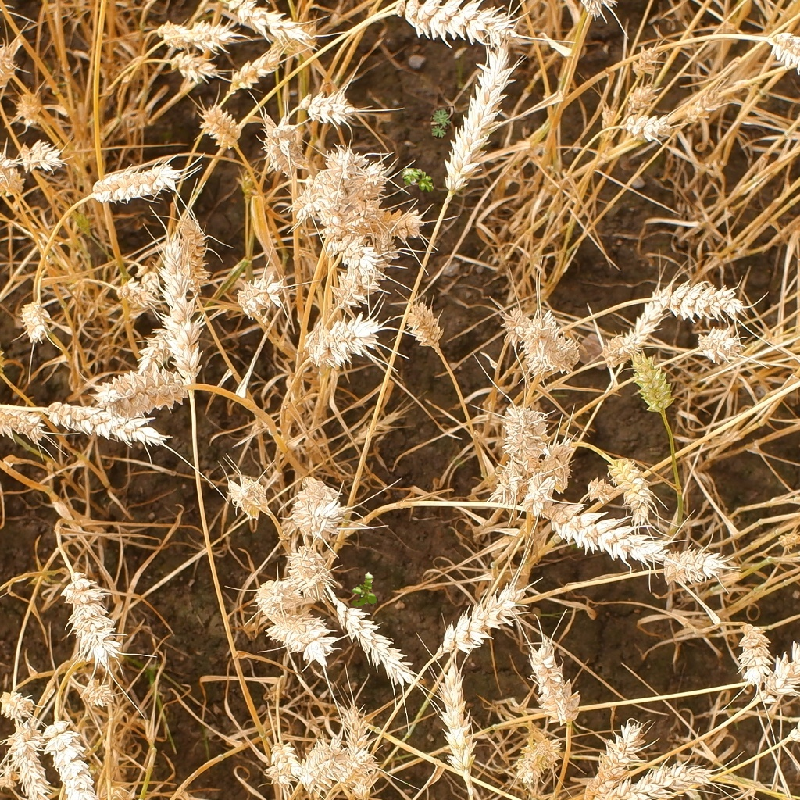spikelet: (440, 43, 517, 190), (550, 499, 667, 564), (337, 599, 418, 687), (60, 566, 124, 667), (439, 580, 524, 656), (47, 395, 166, 447), (576, 718, 646, 800), (396, 1, 519, 46), (42, 716, 108, 799), (289, 146, 354, 221), (435, 663, 477, 778), (525, 635, 581, 721), (301, 312, 381, 369), (87, 156, 180, 205), (215, 1, 316, 46), (605, 289, 668, 360), (91, 364, 190, 409), (262, 604, 335, 665), (515, 306, 579, 374), (659, 275, 746, 324), (755, 610, 800, 704), (520, 436, 576, 511), (2, 719, 53, 799), (336, 702, 379, 791), (623, 758, 715, 799), (288, 473, 345, 538), (153, 9, 233, 52), (605, 450, 657, 516), (499, 399, 550, 463), (508, 725, 560, 786), (628, 348, 676, 412), (661, 541, 727, 587), (156, 233, 196, 308), (732, 618, 774, 688), (227, 45, 289, 92), (297, 734, 346, 793), (283, 542, 333, 597), (329, 256, 380, 309), (400, 294, 447, 351), (298, 84, 356, 129), (260, 115, 304, 174), (222, 469, 271, 521), (235, 270, 286, 319), (196, 99, 243, 150), (371, 203, 427, 242), (165, 45, 220, 84), (1, 397, 47, 443), (14, 295, 56, 345), (693, 323, 743, 364), (262, 738, 301, 787), (19, 135, 65, 176), (620, 110, 672, 144), (73, 673, 117, 709), (394, 159, 436, 195), (620, 80, 660, 117), (11, 85, 47, 126), (769, 24, 800, 70), (1, 682, 37, 721), (1, 145, 24, 202), (1, 39, 19, 97)
weed: (351, 572, 378, 607), (399, 168, 434, 193), (430, 106, 454, 139)
